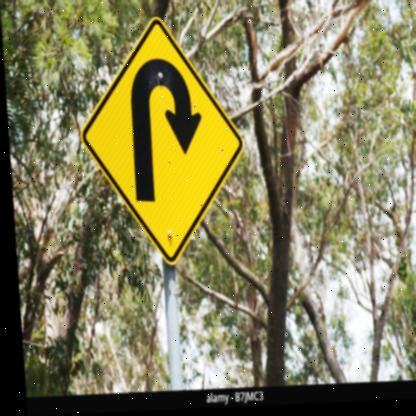U-turn: (71, 14, 249, 275)
